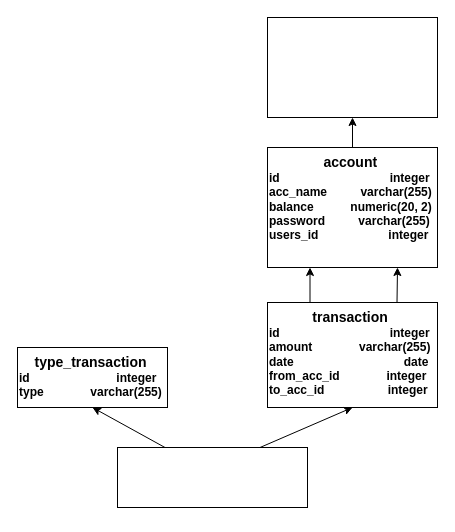
The diagram is 455 pixels wide and 532 high, and some of its shapes have lost their labels. The centre of each missing label's shape, as x and y in pixels:
tr_to_type_tr transaction_id integer type_transaction_id ineger: (212,477)
users id integer name varchar(255) email varchar(255) password varchar(255): (352,67)
